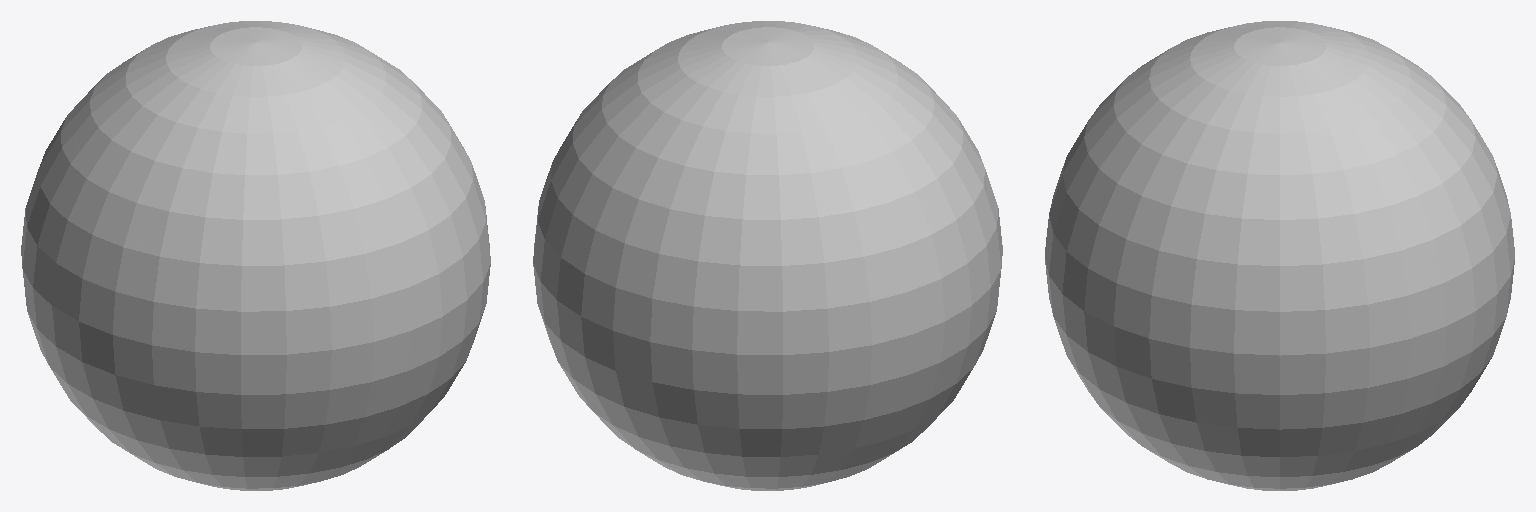
Rendered from vrag2Half2.obj.
3 views of the same model, side by side, from view 1: azimuth 30°, elevation 25°; view 2: azimuth 150°, elevation 25°; view 3: azimuth 270°, elevation 25° (orthographic).
Visible parts, largest first — view 1: Sphere; view 2: Sphere; view 3: Sphere.
Boxes of the visible parts, x1=… form: Sphere: x1=21, y1=21, x2=490, y2=490; Sphere: x1=533, y1=21, x2=1002, y2=490; Sphere: x1=1045, y1=21, x2=1514, y2=490.
Bounding box in the file's own units: 1 × 1 × 1.